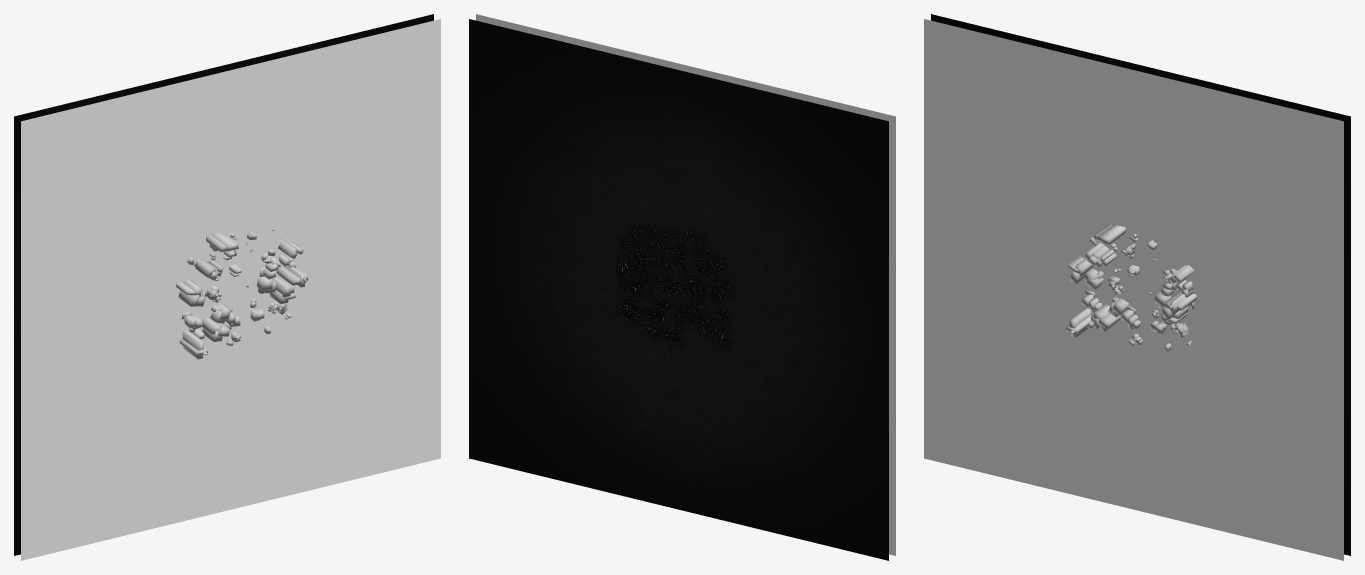
Rendered from outer_sky.fbx.
3 views of the same model, side by side, from view 1: azimuth 30°, elevation 25°; view 2: azimuth 150°, elevation 25°; view 3: azimuth 330°, elevation 25° (orthographic).
Visible parts, largest first — view 1: mistplane, cityscape, groundplane; view 2: groundplane, mistplane; view 3: mistplane, cityscape, groundplane.
Part boxes in pixels (x1=…): mistplane: x1=21, y1=19, x2=440, y2=560; cityscape: x1=175, y1=229, x2=308, y2=359; groundplane: x1=14, y1=14, x2=433, y2=555; groundplane: x1=469, y1=19, x2=888, y2=560; mistplane: x1=476, y1=14, x2=895, y2=555; mistplane: x1=924, y1=19, x2=1343, y2=560; cityscape: x1=1066, y1=224, x2=1196, y2=351; groundplane: x1=931, y1=14, x2=1350, y2=555.
Size of the model in its own units: 1440 by 1440 by 156.
